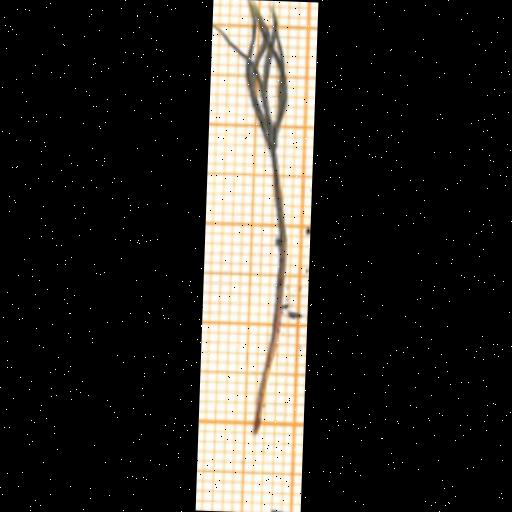flowerPinus: (224, 0, 286, 147)
rootPinus: (252, 316, 280, 435)
stemPinus: (268, 149, 285, 313)
